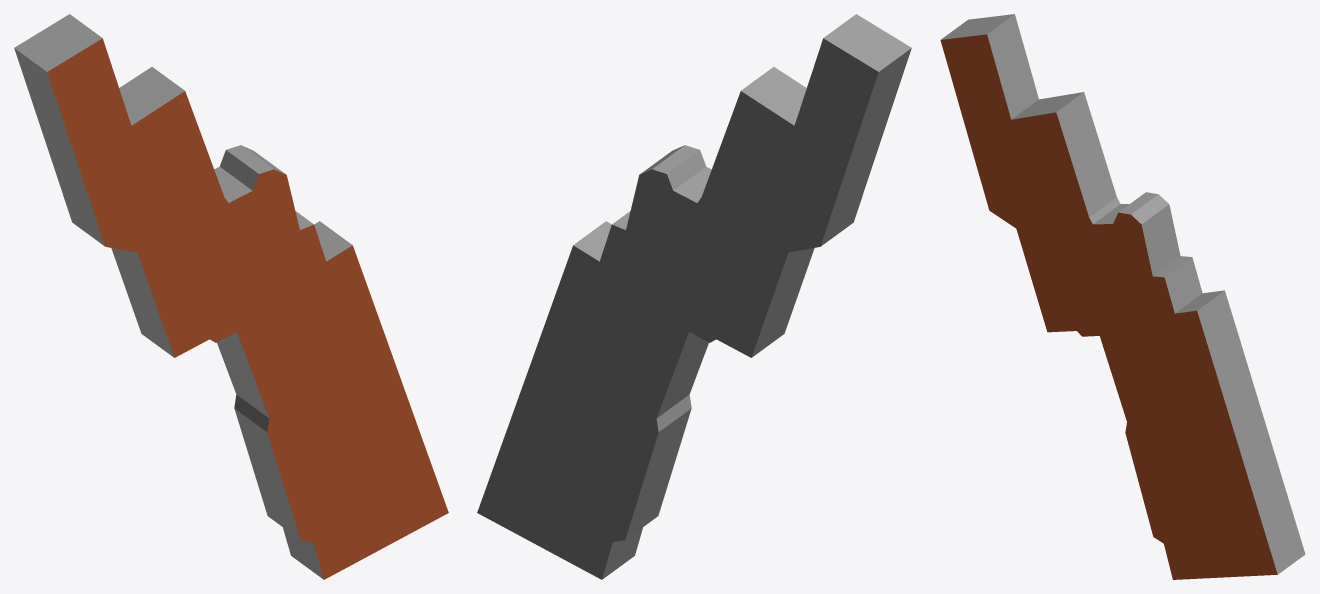
File: construction_3092_assumed_A_Casa_h6m.obj
3 views of the same model, side by side, from view 1: azimuth 30°, elevation 25°; view 2: azimuth 150°, elevation 25°; view 3: azimuth 330°, elevation 25° (orthographic). The views are drawn at different scales.
Visible parts, largest first — view 1: construction_3092_assumed_A_Casa; view 2: construction_3092_assumed_A_Casa; view 3: construction_3092_assumed_A_Casa.
Boxes of the visible parts, x1,y1,x2,y2 form: construction_3092_assumed_A_Casa: (14, 14, 448, 579); construction_3092_assumed_A_Casa: (477, 14, 911, 579); construction_3092_assumed_A_Casa: (940, 14, 1305, 579).
Bounding box in the file's own units: 42.06 × 59.61 × 6.
